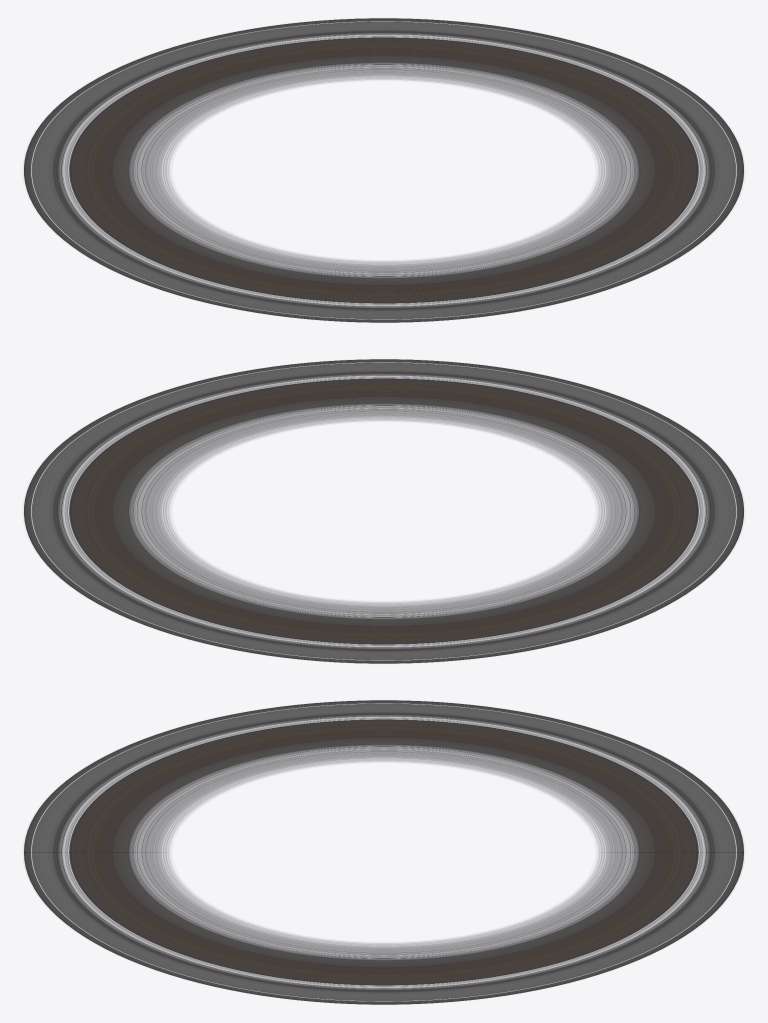
File: saturn_rings.glb
3 views of the same model, one above another, from view 1: azimuth 30°, elevation 25°; view 2: azimuth 150°, elevation 25°; view 3: azimuth 270°, elevation 25° (orthographic).
Visible parts, largest first — view 1: saturn_rings; view 2: saturn_rings; view 3: saturn_rings.
Boxes of the visible parts, x1,y1,x2,y2 form: saturn_rings: (24, 18, 743, 322); saturn_rings: (24, 359, 743, 663); saturn_rings: (24, 700, 743, 1004).
Bounding box in the file's own units: 4.54 × 0 × 4.54.
1 material, 1 textured.
